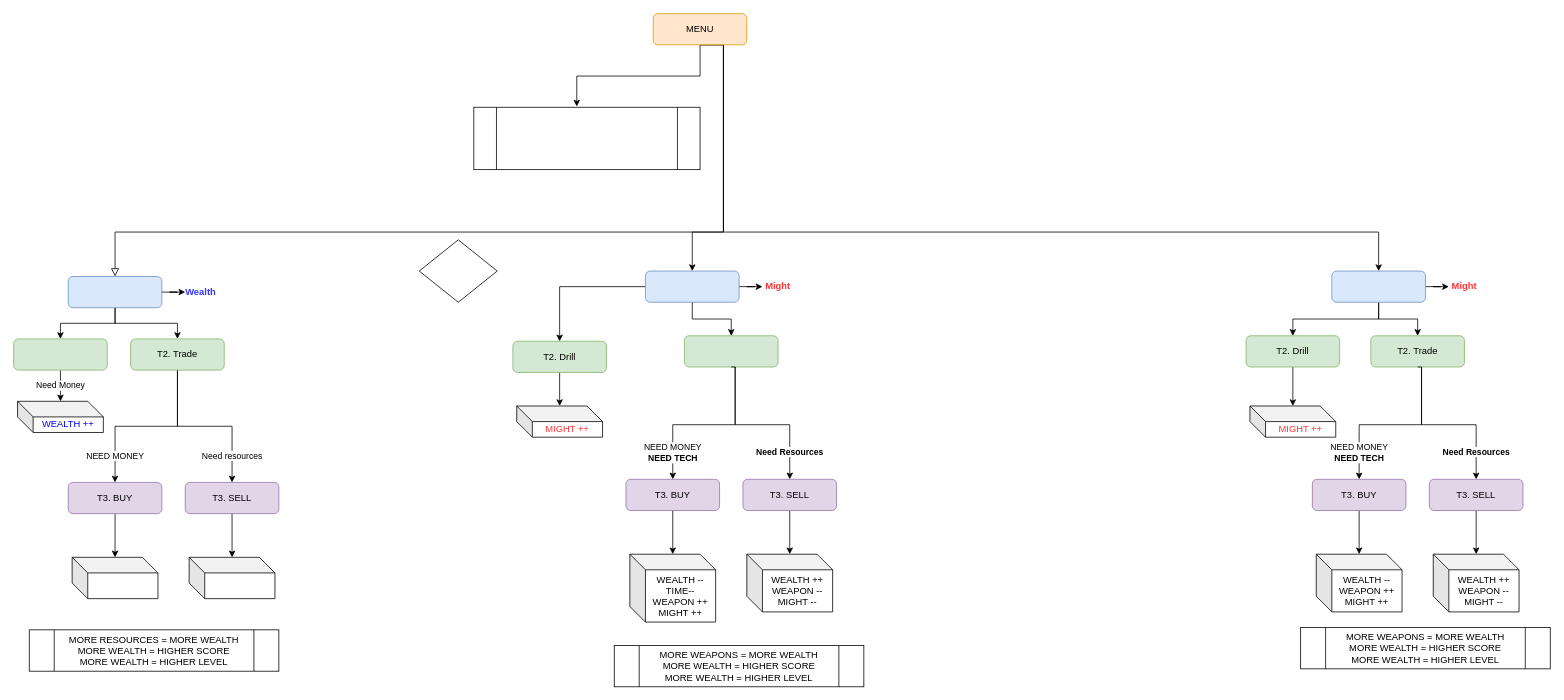
Some shapes in this 1564 by 700 pixel diagram are drawn without their labels. Each missing label, with the box of its shape:
END OF YEAR FUNCTION HIGHEST SCORE WINS FINANCE/WAR/POLITICS/SCIENCE: (473, 106, 700, 170)
RESOURCE -- WEALTH ++: (188, 557, 275, 599)
T1. Finance: (67, 276, 162, 308)
T1. Politics: (1331, 270, 1425, 302)
T1. War: (645, 270, 739, 302)
T2. gamble: (13, 338, 107, 370)
T2. WEAPONS: (684, 335, 778, 367)
WEALTH -- RESOURCE ++: (71, 557, 158, 599)
WTF: (418, 239, 497, 302)
